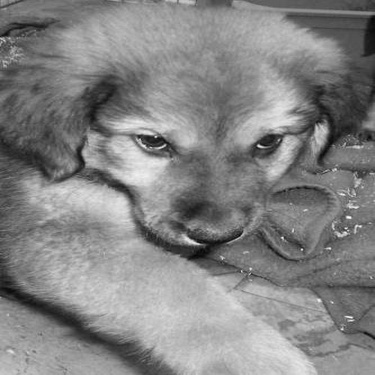dog: (2, 8, 372, 372)
